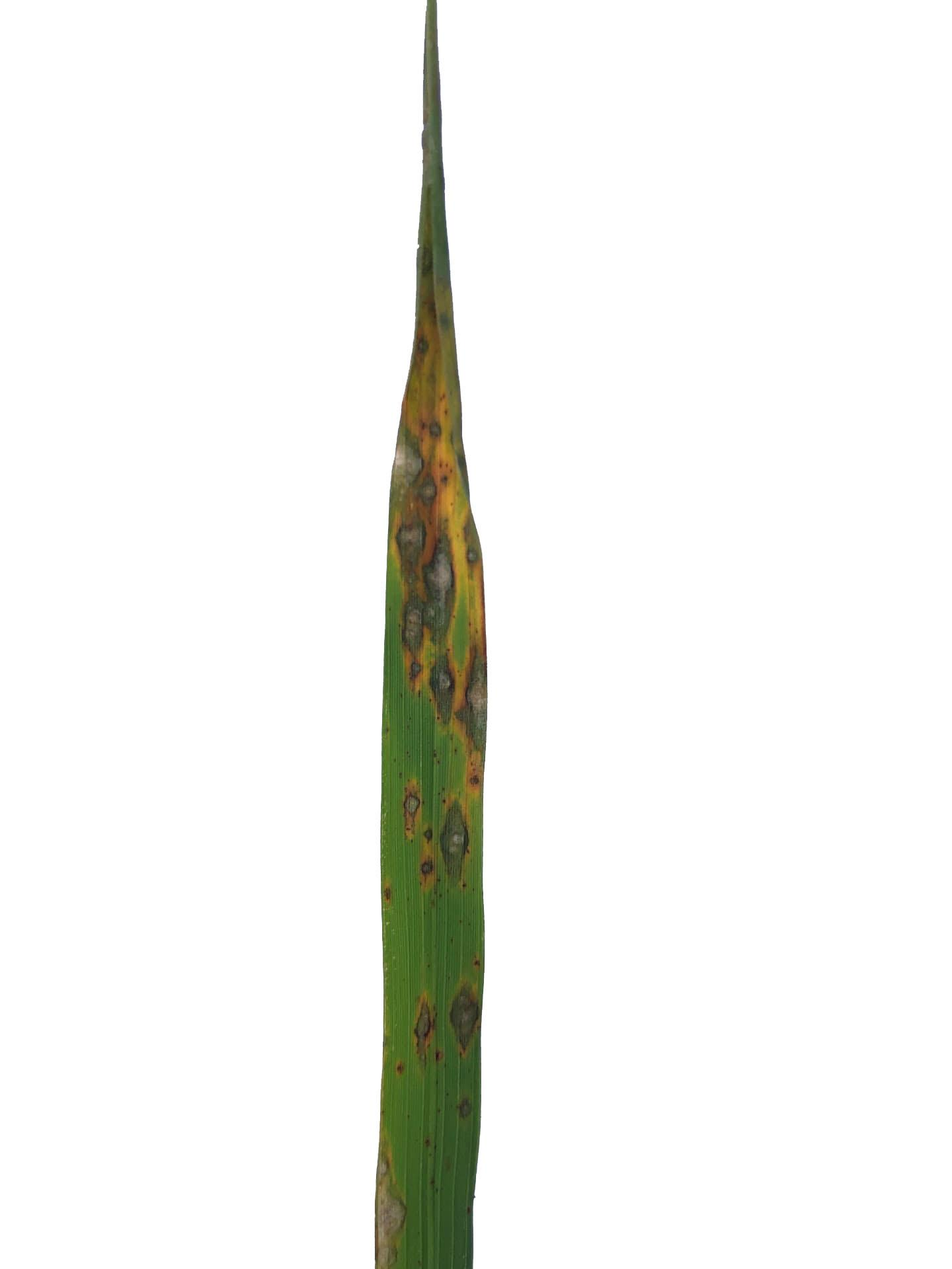Rice blast: (377, 1150, 427, 1269), (422, 525, 463, 653), (448, 648, 488, 764), (436, 792, 481, 890), (438, 980, 484, 1062), (398, 595, 435, 686), (392, 433, 434, 501), (427, 648, 461, 724), (392, 517, 431, 576), (409, 985, 436, 1059), (391, 786, 431, 830), (459, 514, 478, 576)
